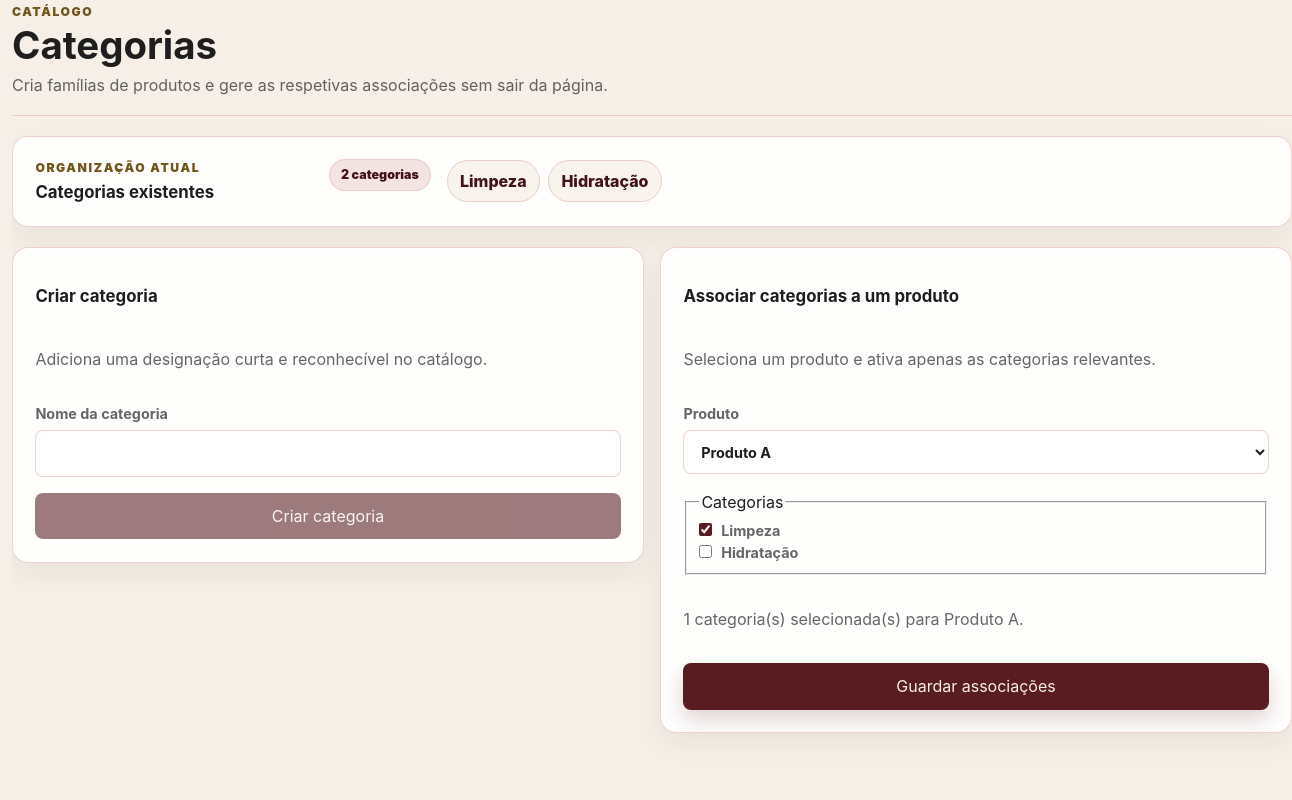
Test: AdminCategoriesPage › permite remover todas as associações sem pedir identificadores
The image size is (1292, 800).
Step 1. Click the checkbox labelled "Limpeza" → (706, 530), box [699,523,712,536]
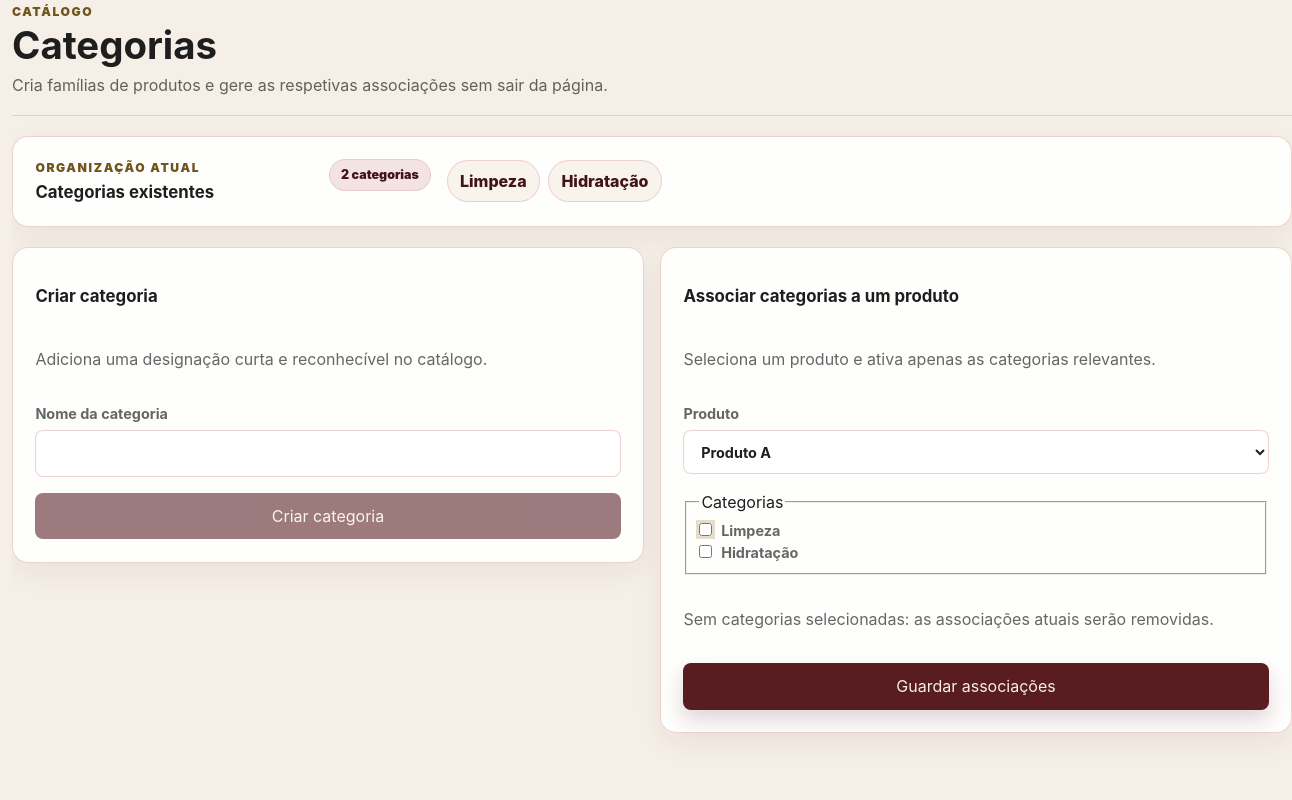
Expected: the text "as associações atuais serão removidas" is shown, [683,609,1214,629]
Step 2. Click the button "Guardar associações" → (976, 686), box [683,663,1269,710]
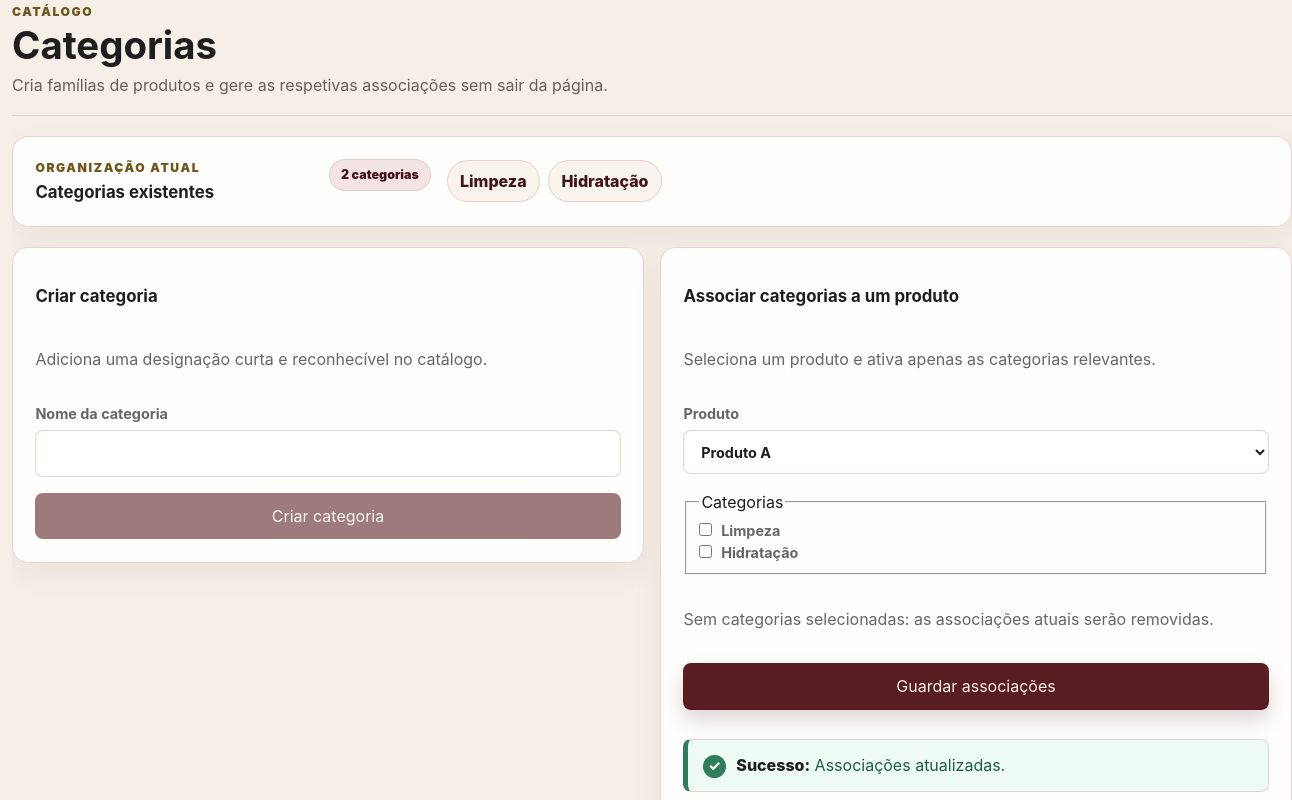
Expected: the message shows "Associações atualizadas.", [815,755,1005,775]
